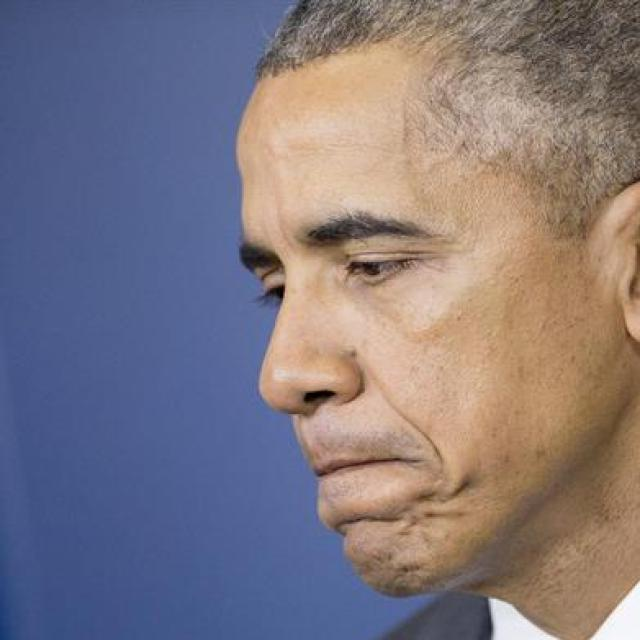Depress: (236, 56, 635, 607)
